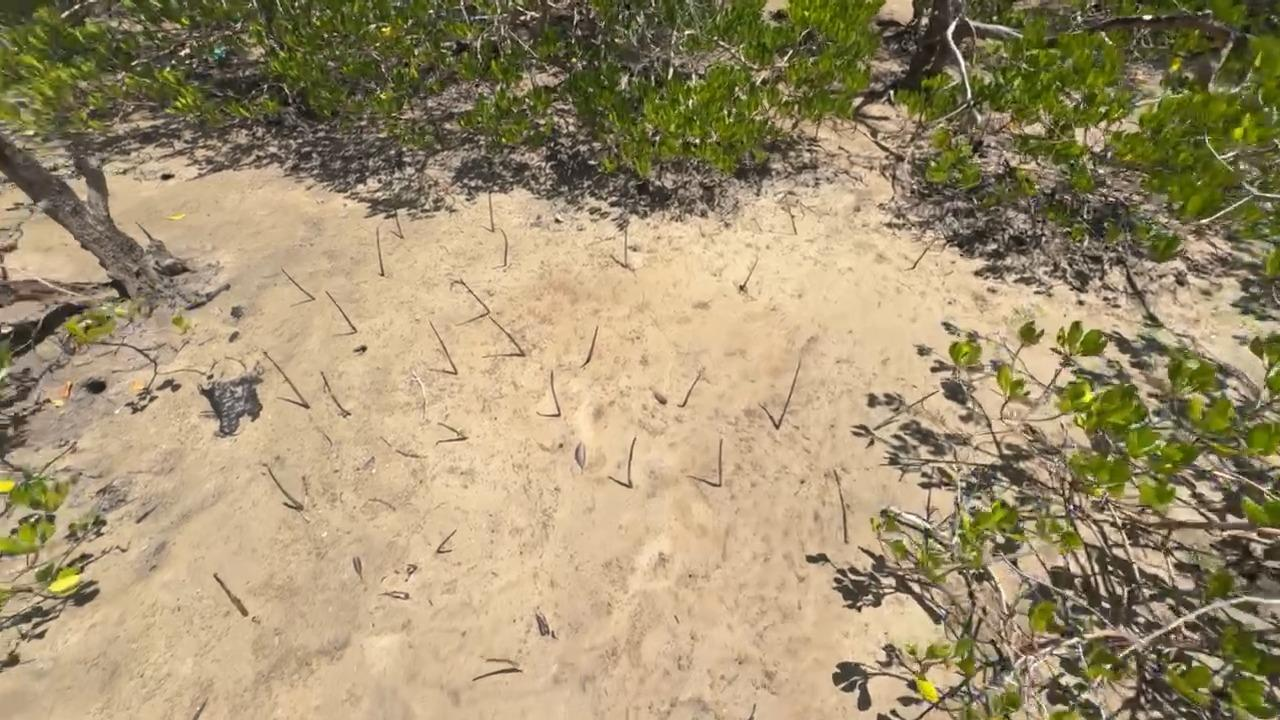Tree: (1037, 319, 1109, 399), (262, 351, 310, 409), (776, 359, 801, 429), (266, 465, 303, 511), (213, 571, 248, 618), (429, 320, 458, 374), (320, 370, 351, 417), (489, 316, 525, 356), (325, 291, 358, 333), (450, 278, 489, 313), (279, 267, 316, 300), (833, 469, 849, 543), (911, 239, 936, 269), (683, 371, 702, 406), (741, 257, 759, 289), (485, 657, 523, 671), (550, 369, 561, 416), (585, 326, 598, 365), (375, 227, 385, 276), (627, 437, 636, 488), (786, 204, 798, 235), (393, 206, 404, 238), (135, 221, 153, 240), (499, 228, 508, 266), (488, 190, 495, 232), (718, 439, 723, 487), (747, 702, 757, 720), (624, 227, 628, 267)
